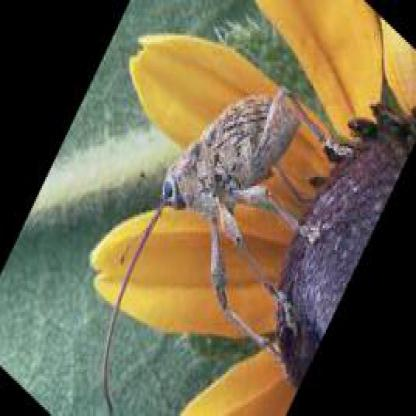ash weevil: (164, 89, 328, 315)
